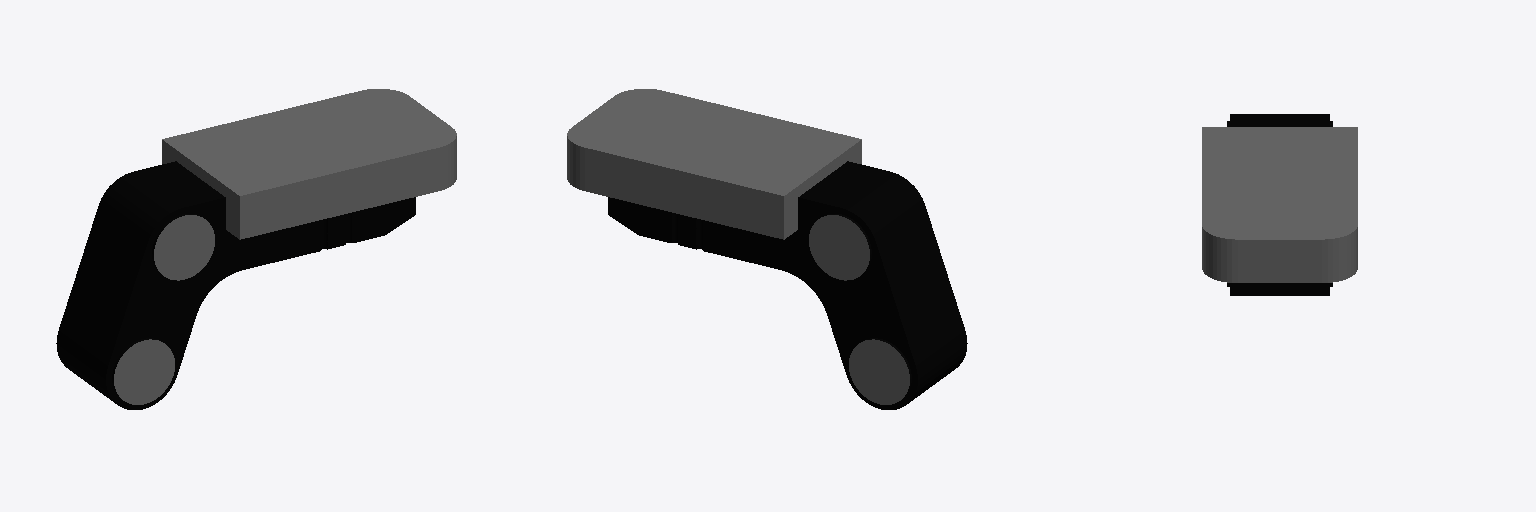
File: robotiq_85_finger_tip_link.obj
3 views of the same model, side by side, from view 1: azimuth 30°, elevation 25°; view 2: azimuth 150°, elevation 25°; view 3: azimuth 270°, elevation 25° (orthographic).
Parts seen in each view (by area): view 1: robotiq_85_finger_tip_robotiq_85_finger_tip.001; view 2: robotiq_85_finger_tip_robotiq_85_finger_tip.001; view 3: robotiq_85_finger_tip_robotiq_85_finger_tip.001.
Boxes of the visible parts, box(x1,y1,x2,y2) form: robotiq_85_finger_tip_robotiq_85_finger_tip.001: box(56, 89, 456, 409); robotiq_85_finger_tip_robotiq_85_finger_tip.001: box(567, 89, 967, 409); robotiq_85_finger_tip_robotiq_85_finger_tip.001: box(1202, 114, 1357, 295).
Bounding box in the file's own units: 0.057 × 0.0317 × 0.022.